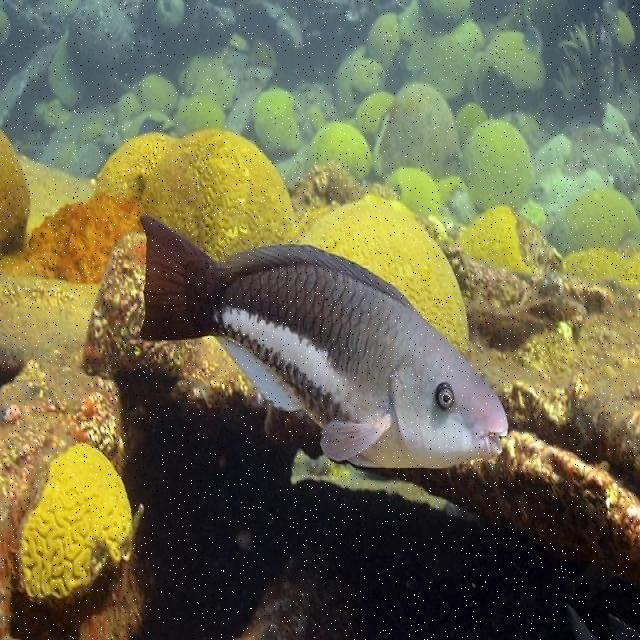fish: (138, 215, 509, 471)
reefs: (2, 130, 469, 357), (20, 440, 136, 600)
